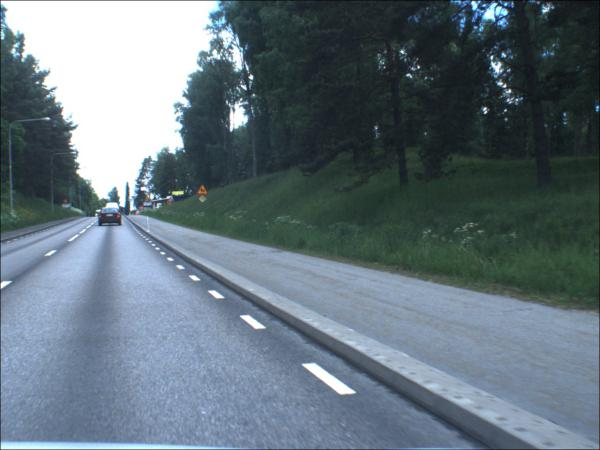50_SIGN: (65, 199, 70, 205), (147, 199, 152, 203)
PRIORITY_ROAD: (200, 196, 209, 205)
WARNING: (199, 185, 212, 196)
